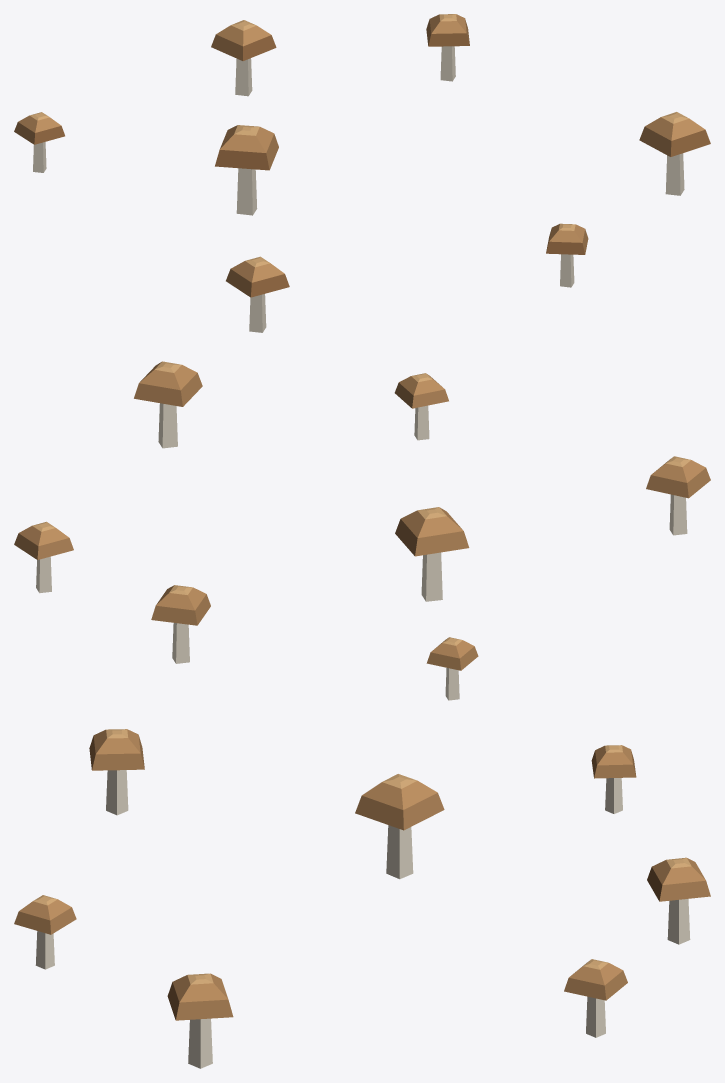
The model's file is mushroom-1.glb.
The picture shows the model from 3 angles, top to bottom: view 1: azimuth 30°, elevation 25°; view 2: azimuth 150°, elevation 25°; view 3: azimuth 270°, elevation 25°; orthographic projection. The views are drawn at different scales.
Parts seen in each view (by area): view 1: mushroom-1; view 2: mushroom-1; view 3: mushroom-1.
Boxes of the visible parts, box(x1,y1,x2,y2) form: mushroom-1: box(14, 14, 710, 332); mushroom-1: box(14, 361, 710, 700); mushroom-1: box(14, 729, 710, 1068).
Size of the model in its own units: 0.4921 by 0.0775 by 0.5203.
Materials: 1 (1 with a texture image).
